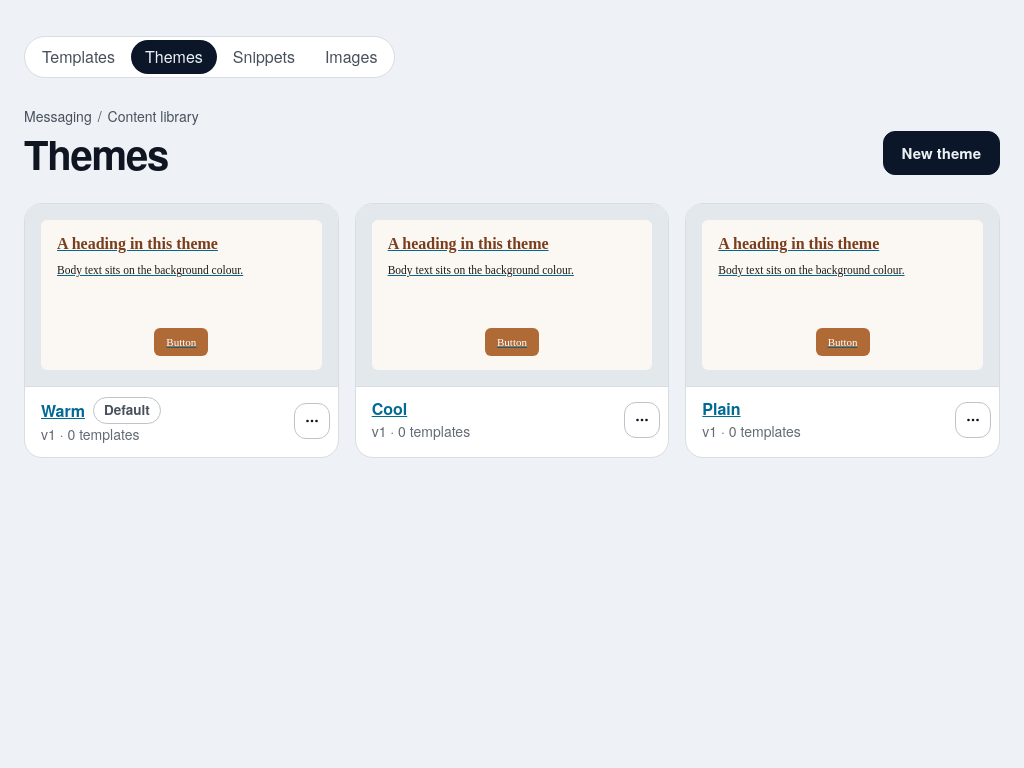
the set-default confirm › lists the templates the new default would break, with links, and stays open
Click the button named "More actions for Cool". click: (642, 420)
box: [624,402,660,438]
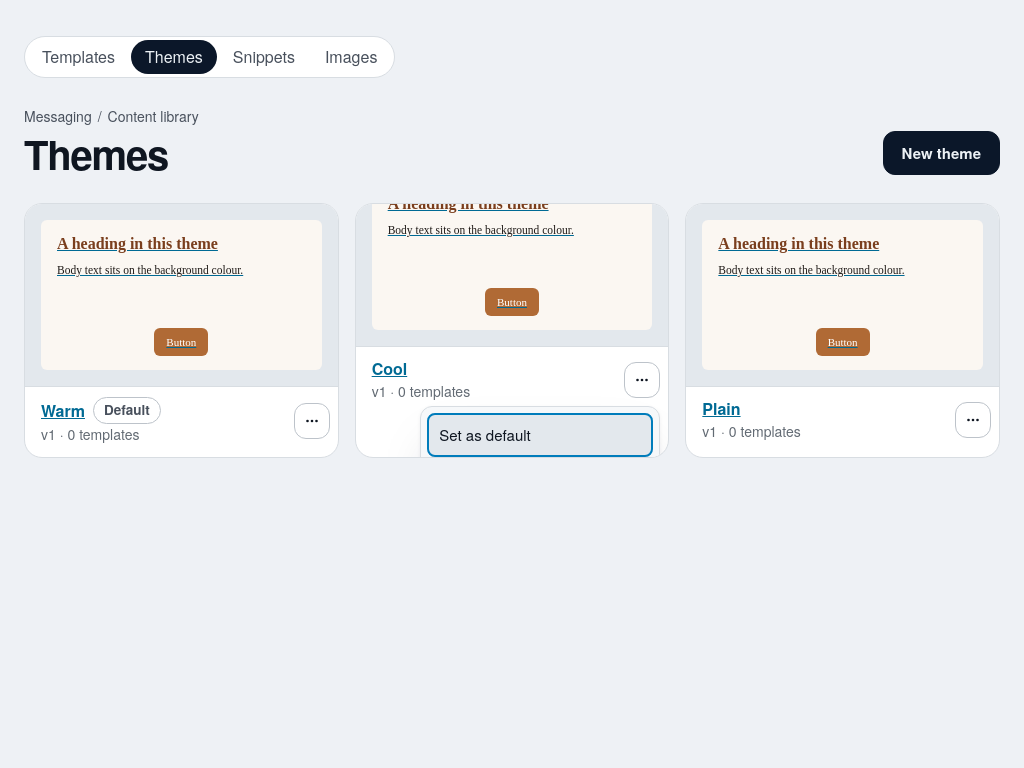
Click the menu item "Set as default". click: (540, 435)
box: [427,413,653,457]
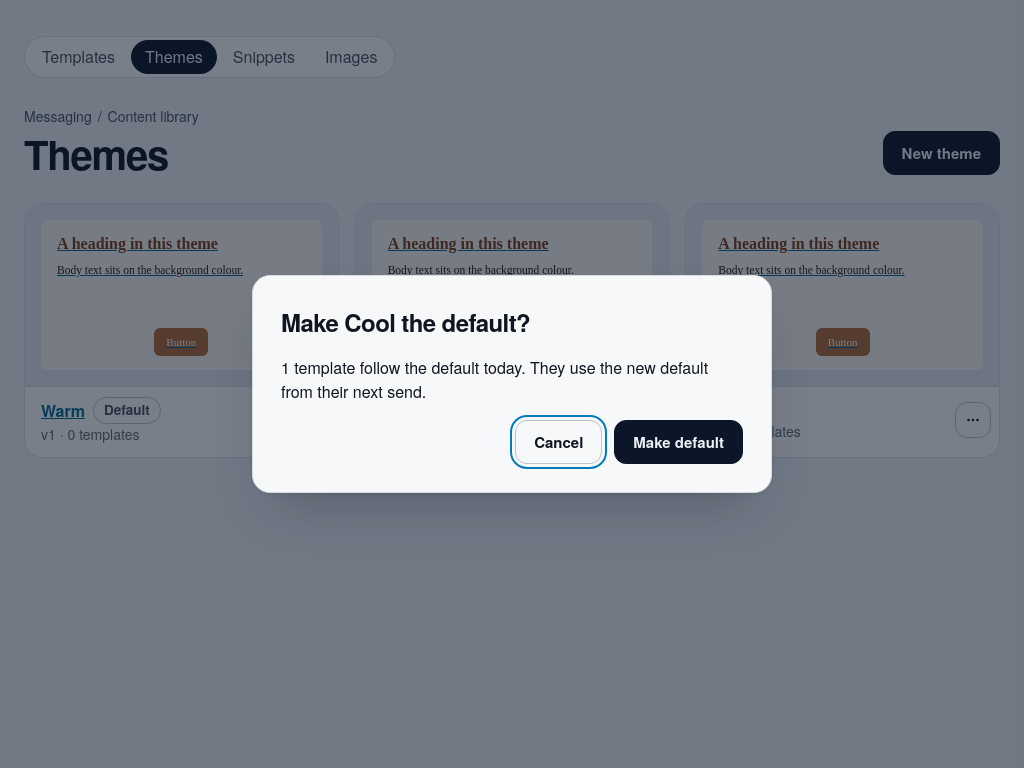
Click the button "Make default". click: (679, 442)
box: [614,420,743,464]
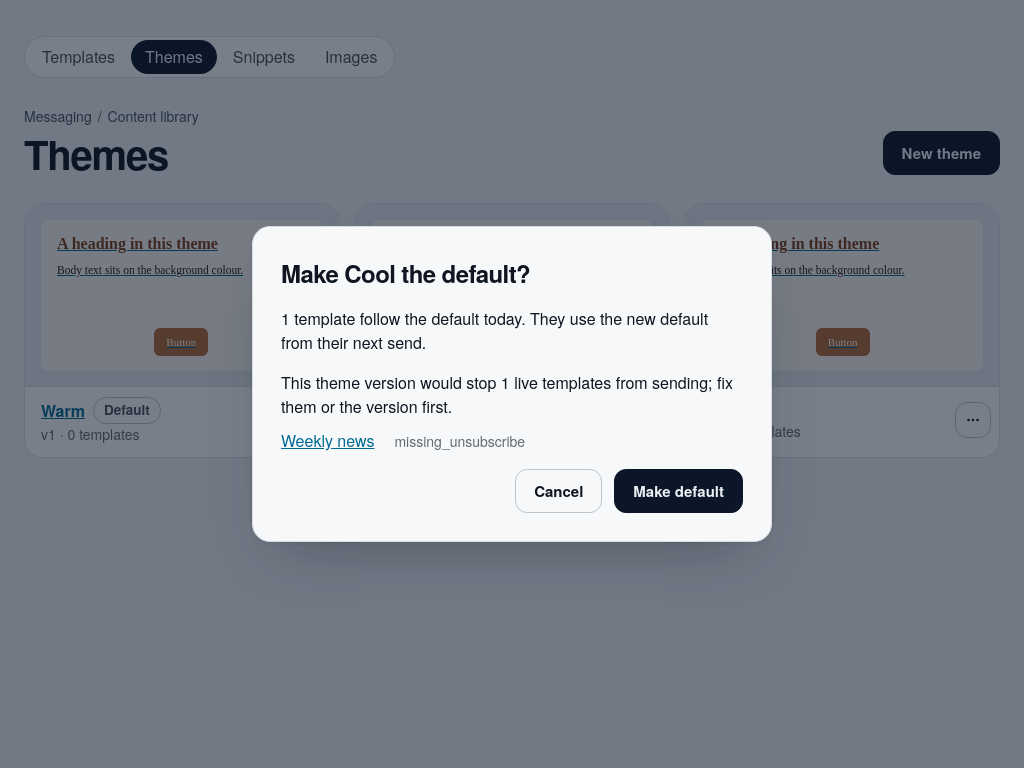
Result: the button "Cancel" is enabled at [515,469,602,513]
Result: the text "missing_unsubscribe" is shown at [394,430,525,452]
